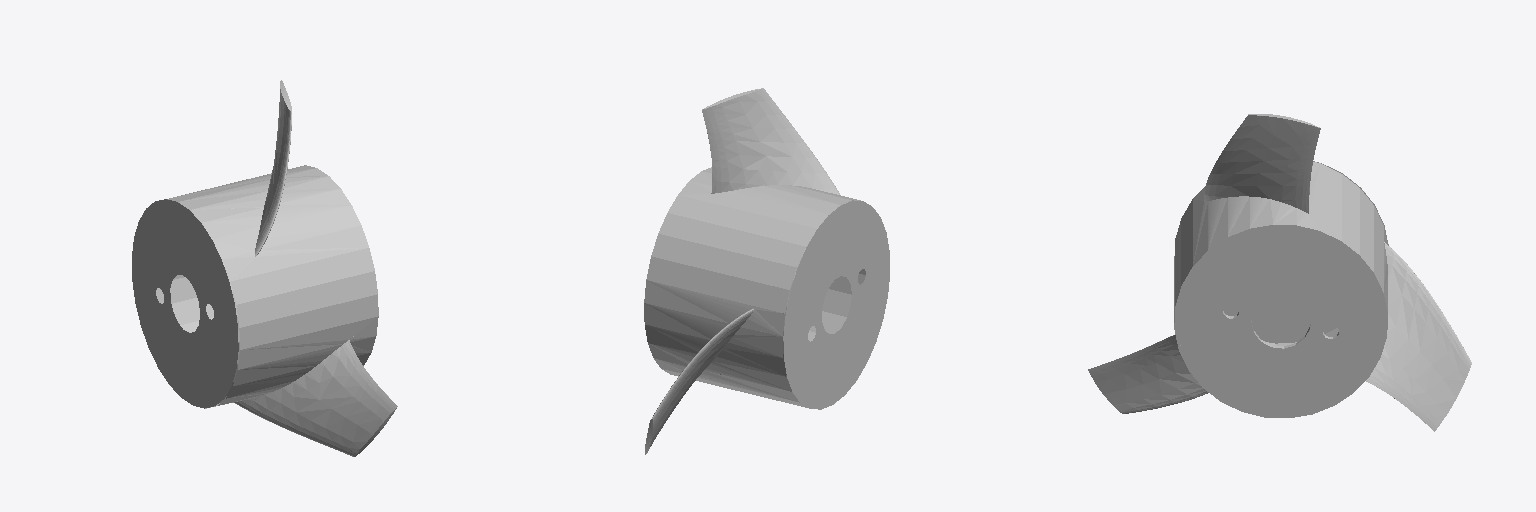
Rendered from thruster_t200.obj.
The picture shows the model from 3 angles: view 1: azimuth 30°, elevation 25°; view 2: azimuth 150°, elevation 25°; view 3: azimuth 270°, elevation 25°; orthographic projection.
Parts seen in each view (by area): view 1: T200-THRUSTER-R1; view 2: T200-THRUSTER-R1; view 3: T200-THRUSTER-R1.
Boxes of the visible parts, box(x1,y1,x2,y2) form: T200-THRUSTER-R1: box(132, 80, 397, 456); T200-THRUSTER-R1: box(644, 88, 889, 454); T200-THRUSTER-R1: box(1088, 114, 1471, 431).
Bounding box in the file's own units: 0.0632 × 0.1328 × 0.1506.